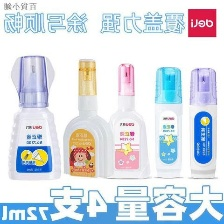correction_fluid: (4, 53, 61, 182), (96, 61, 154, 182), (61, 55, 116, 178), (187, 67, 220, 180), (152, 64, 184, 180)
